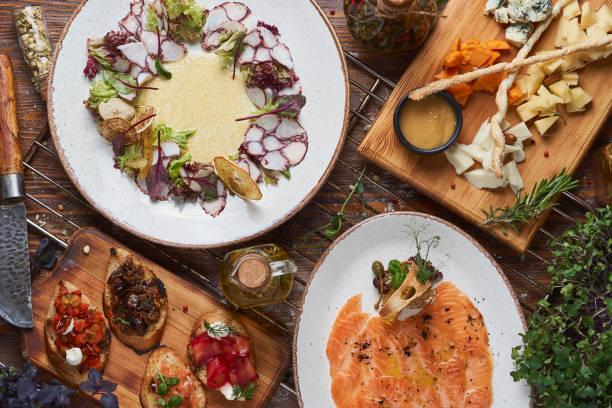Braised Crucian Carp: (47, 0, 344, 249), (359, 2, 609, 250), (22, 224, 292, 406), (293, 210, 528, 407)
